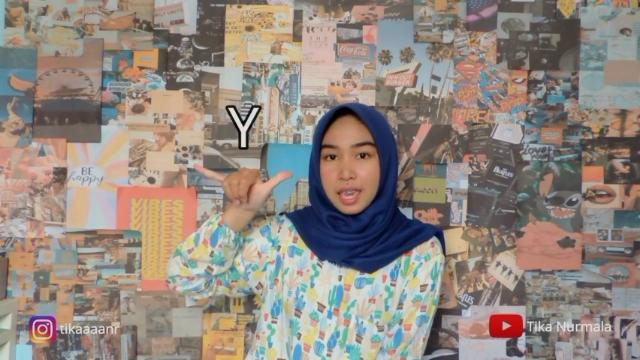Y: (192, 162, 294, 217)
